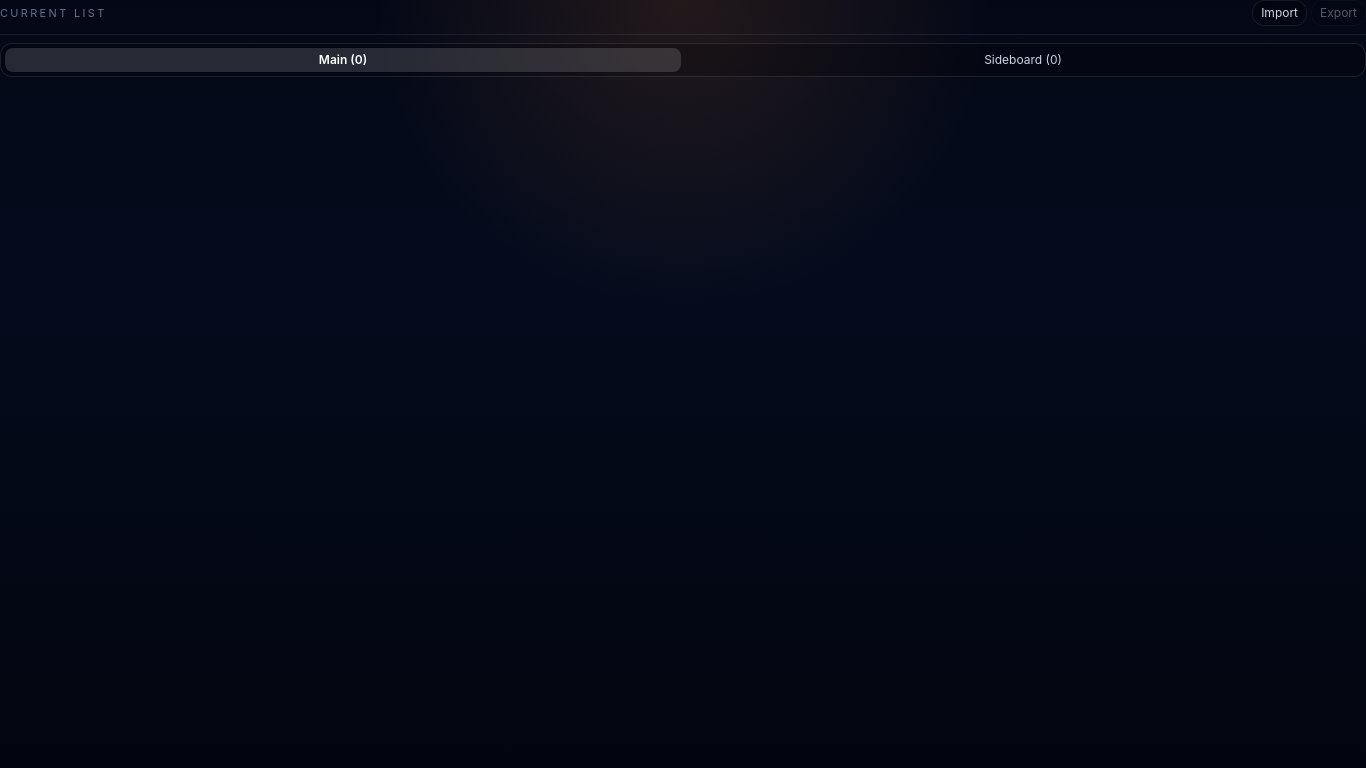
Test case: DeckList import modal › shows an error and keeps the modal open when pasted text has no cards
Click the button "Import": (1280, 13) top-left (1252, 0), bottom-right (1307, 26)
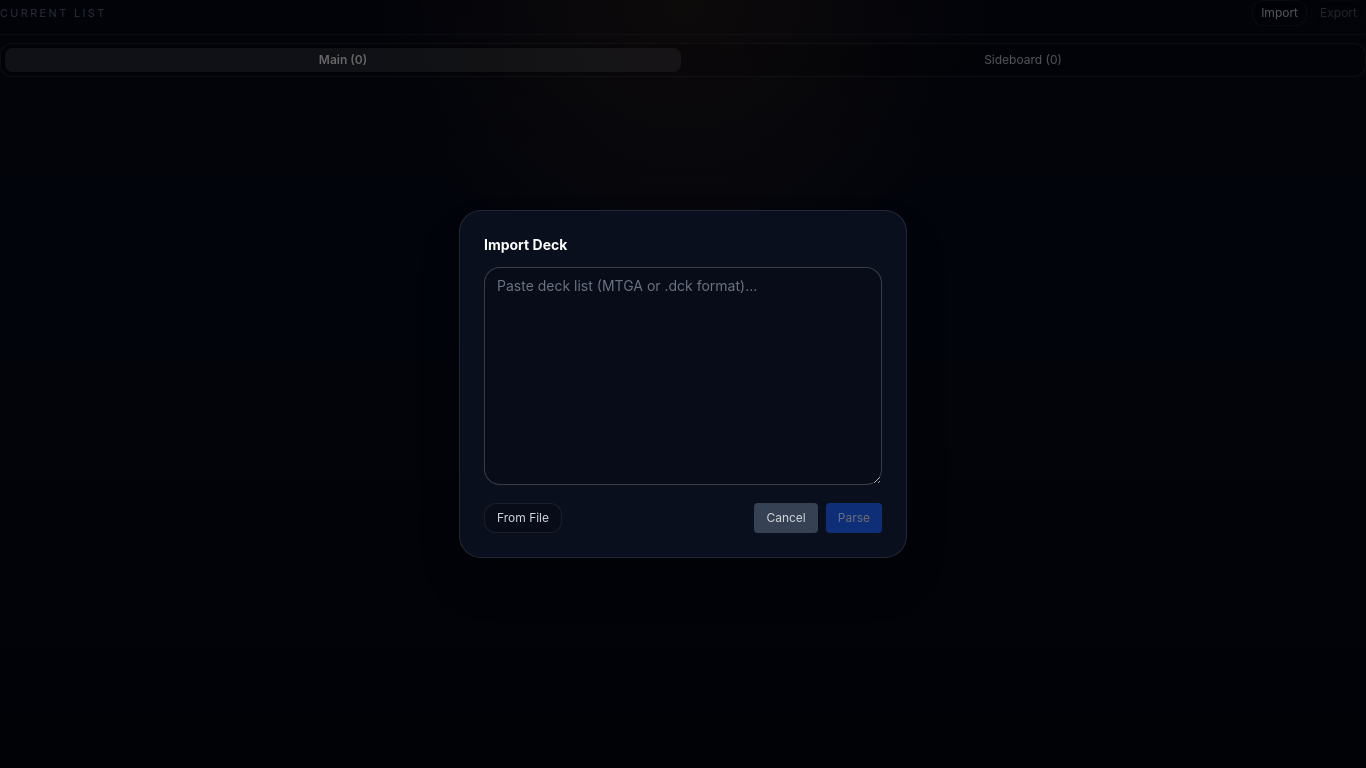
In the text box with placeholder "Paste deck list (MTGA or .dck format)...": (683, 376) top-left (484, 267), bottom-right (882, 485), type "asdasd"
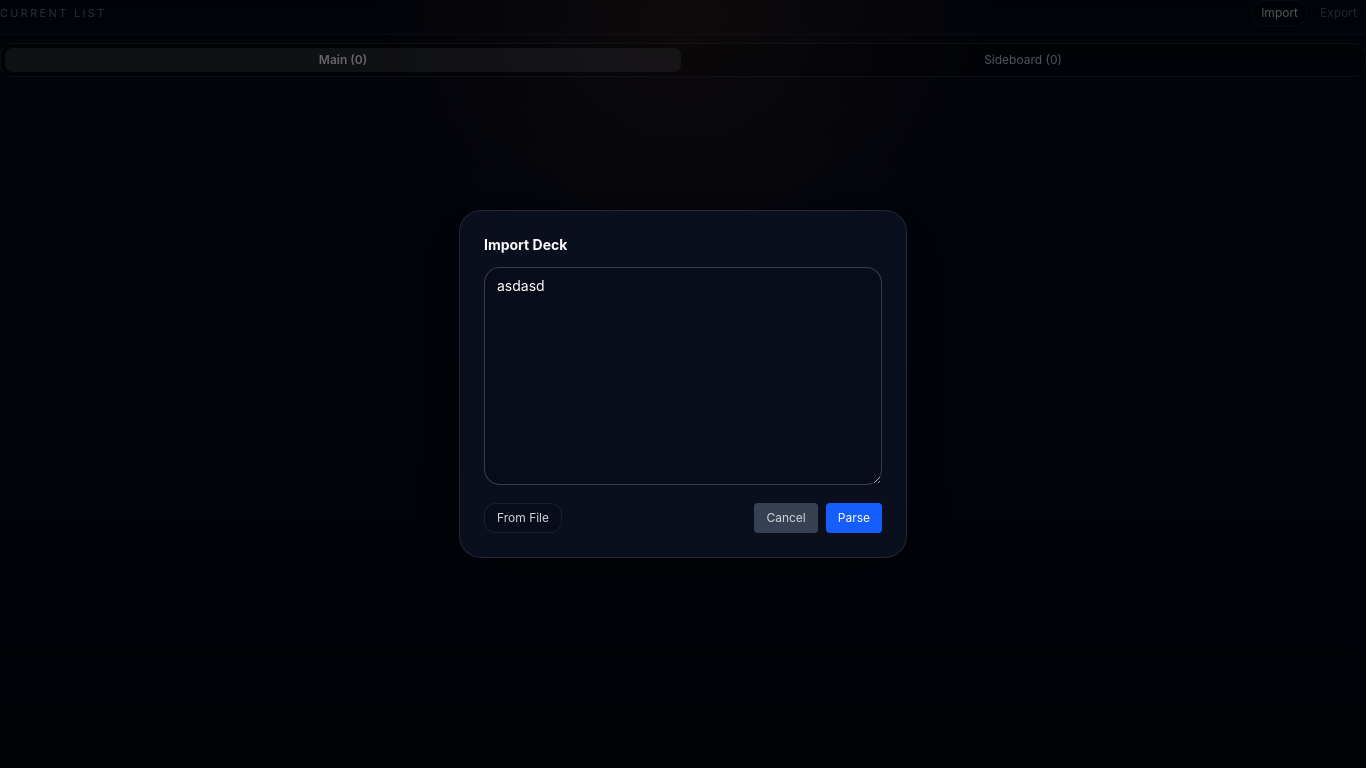
Click the button "Parse": (854, 518) top-left (826, 503), bottom-right (882, 533)
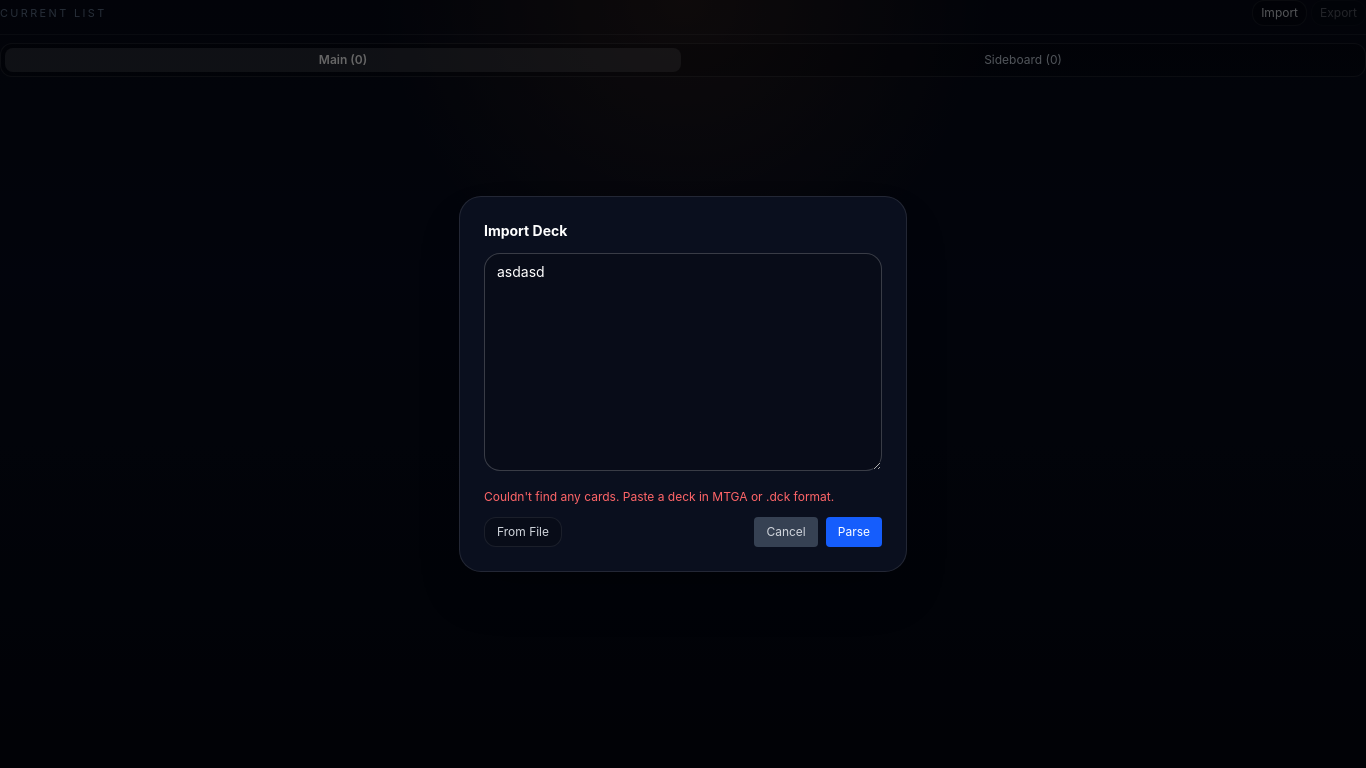
Check: the button "Parse" is shown, box top-left (826, 517), bottom-right (882, 547)
Check: the text "Couldn't find any cards" is shown, box top-left (484, 489), bottom-right (834, 504)
